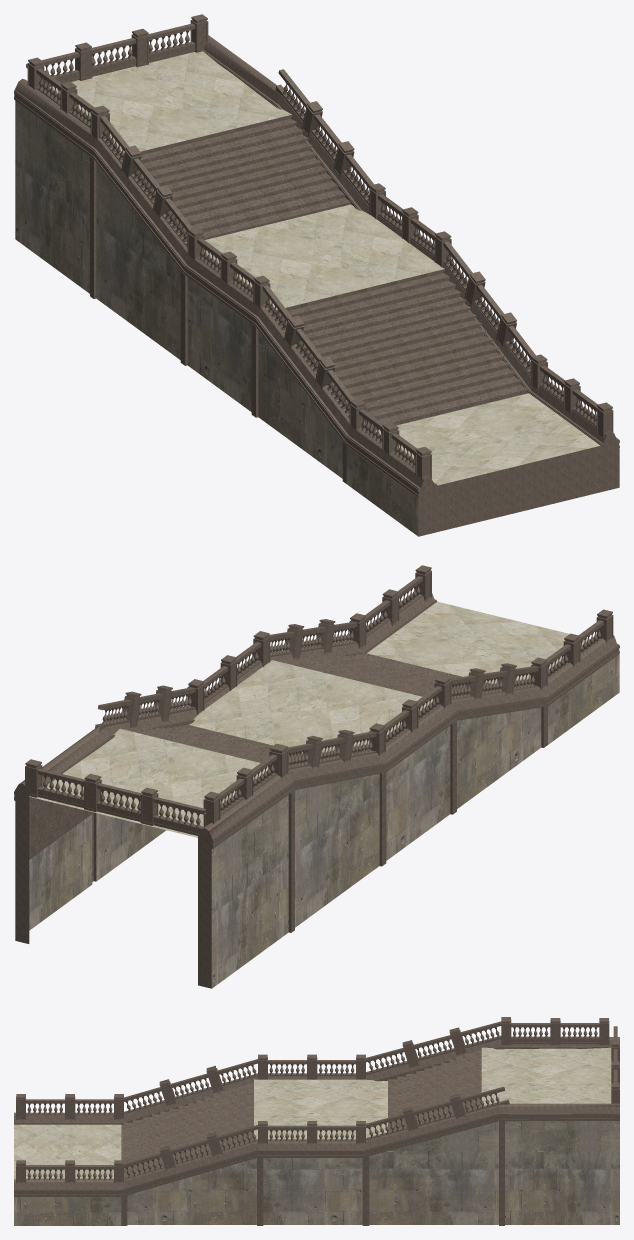
Rendered from merdiven parçası.fbx.
3 renders of one model, top to bottom at view 1: azimuth 30°, elevation 25°; view 2: azimuth 150°, elevation 25°; view 3: azimuth 270°, elevation 25°, orthographic. The views are drawn at different scales.
Visible parts, largest first — view 1: pCube1335, A3, fence33, fence38, fence38.001, fence33.001; view 2: pCube1335, A3, fence33, fence38, fence38.001, fence33.001; view 3: pCube1335, A3, fence38, fence33, fence33.001, fence38.001.
Part boxes in pixels (left/top/right/bottom): pCube1335: left=14, top=35, right=619, bottom=536; A3: left=50, top=51, right=529, bottom=430; fence33: left=275, top=69, right=613, bottom=439; fence38: left=90, top=107, right=431, bottom=479; fence38.001: left=26, top=14, right=208, bottom=86; fence33.001: left=27, top=57, right=109, bottom=137; pCube1335: left=14, top=593, right=619, bottom=988; A3: left=29, top=652, right=492, bottom=859; fence33: left=95, top=565, right=431, bottom=732; fence38: left=272, top=609, right=613, bottom=778; fence38.001: left=25, top=759, right=206, bottom=835; fence33.001: left=203, top=743, right=285, bottom=826; pCube1335: left=14, top=1037, right=619, bottom=1225; A3: left=123, top=1047, right=611, bottom=1177; fence38: left=16, top=1017, right=511, bottom=1119; fence33: left=16, top=1086, right=509, bottom=1183; fence33.001: left=501, top=1018, right=609, bottom=1045; fence38.001: left=611, top=1026, right=619, bottom=1103.
Bounding box in the file's own units: 3.09 × 2.69 × 10.75.
